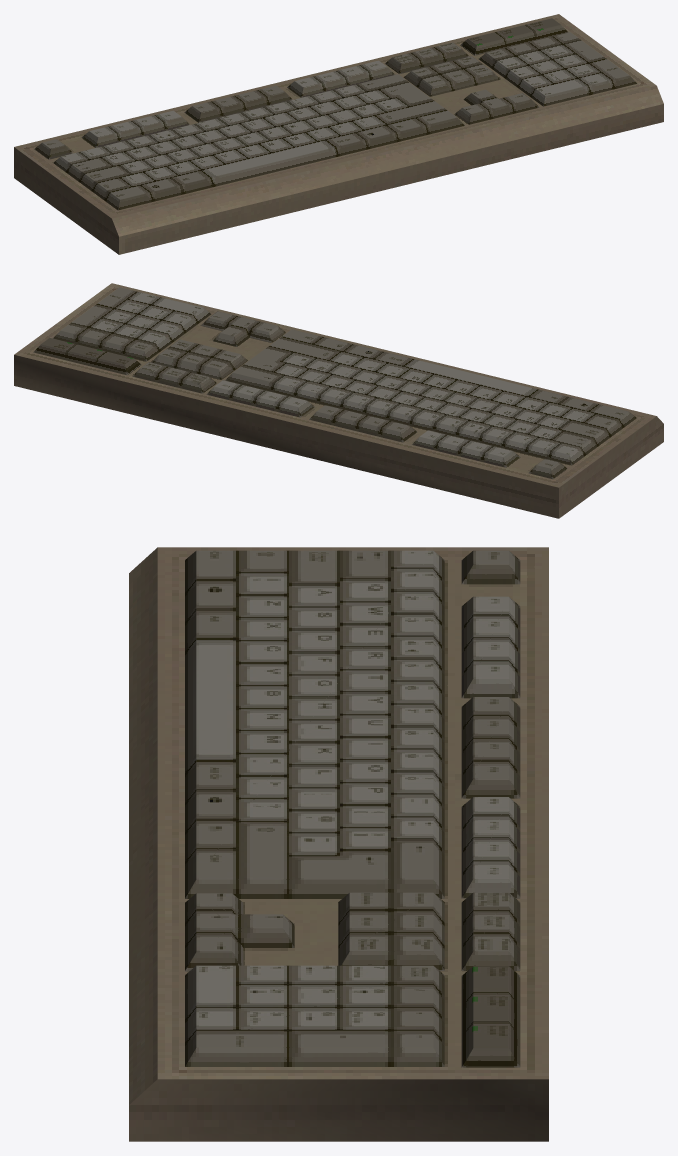
File: pc_keyboard_mp_3.glb
3 renders of one model, top to bottom at view 1: azimuth 30°, elevation 25°; view 2: azimuth 150°, elevation 25°; view 3: azimuth 270°, elevation 25°, orthographic. The views are drawn at different scales.
Visible parts, largest first — view 1: pc_keyboard_mp_3; view 2: pc_keyboard_mp_3; view 3: pc_keyboard_mp_3.
Part boxes in pixels (x1,y1,x2,y2): pc_keyboard_mp_3: [14, 14, 663, 254]; pc_keyboard_mp_3: [14, 283, 663, 518]; pc_keyboard_mp_3: [129, 547, 548, 1141].
Bounding box in the file's own units: 0.55 × 0.037 × 0.1836.
1 material, 1 textured.
